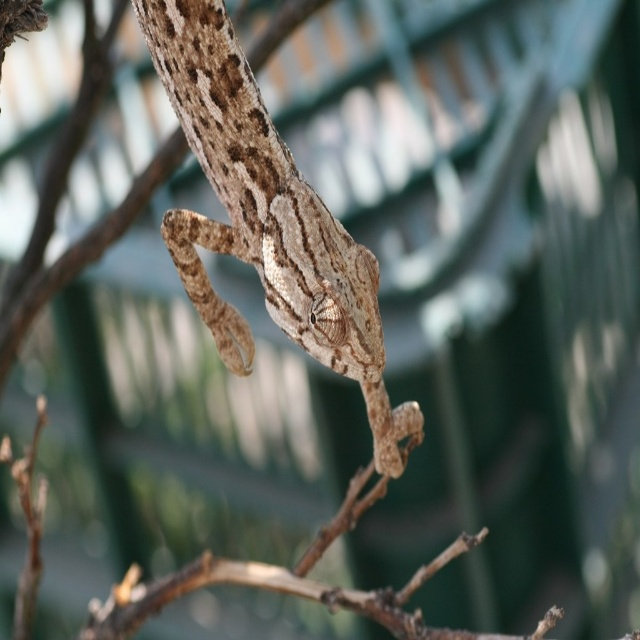Lizard: (129, 7, 415, 514)
